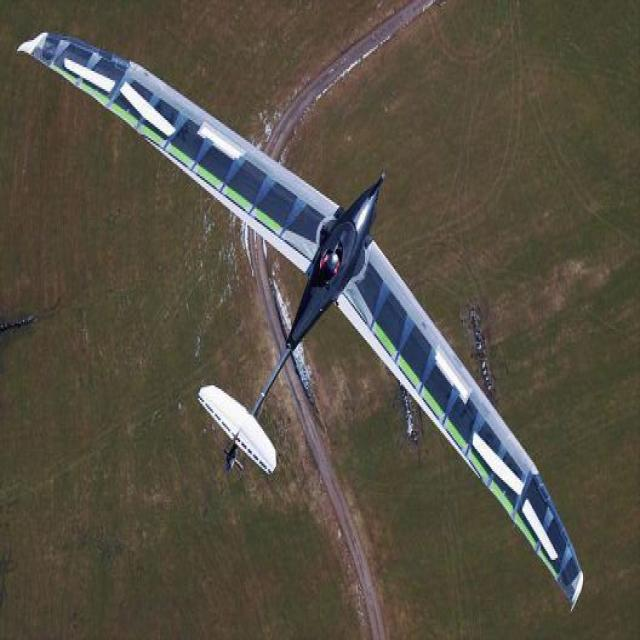iha: (15, 31, 585, 610)
